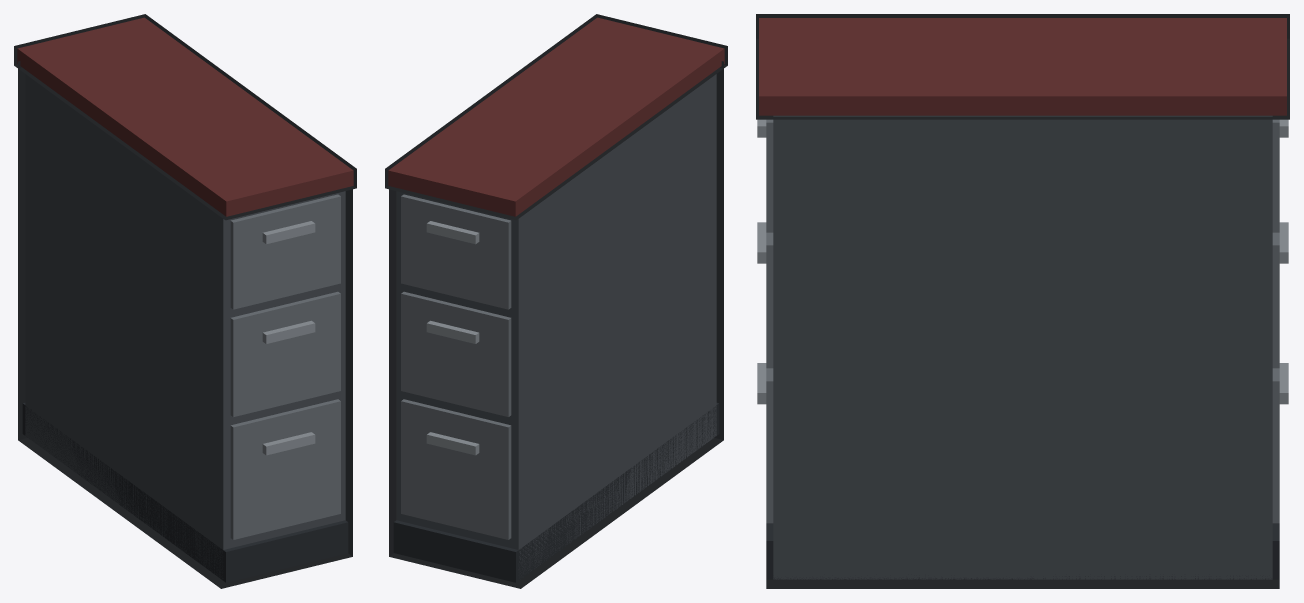
The model's file is SM_BarrierLowCab.glb.
The picture shows the model from 3 angles, left to right: view 1: azimuth 30°, elevation 25°; view 2: azimuth 150°, elevation 25°; view 3: azimuth 270°, elevation 25°; orthographic projection. The views are drawn at different scales.
Parts seen in each view (by area): view 1: SM_BarrierLowCab, SM_BarrierLowCab_Outline; view 2: SM_BarrierLowCab, SM_BarrierLowCab_Outline; view 3: SM_BarrierLowCab, SM_BarrierLowCab_Outline.
Part boxes in pixels (x1=…): SM_BarrierLowCab: x1=17, y1=17, x2=353, y2=582; SM_BarrierLowCab_Outline: x1=14, y1=14, x2=356, y2=588; SM_BarrierLowCab: x1=388, y1=17, x2=724, y2=582; SM_BarrierLowCab_Outline: x1=385, y1=14, x2=727, y2=588; SM_BarrierLowCab: x1=757, y1=18, x2=1288, y2=579; SM_BarrierLowCab_Outline: x1=756, y1=14, x2=1289, y2=588.
Bounding box in the file's own units: 0.5392 × 1.53 × 1.5.
2 materials, 1 textured.
